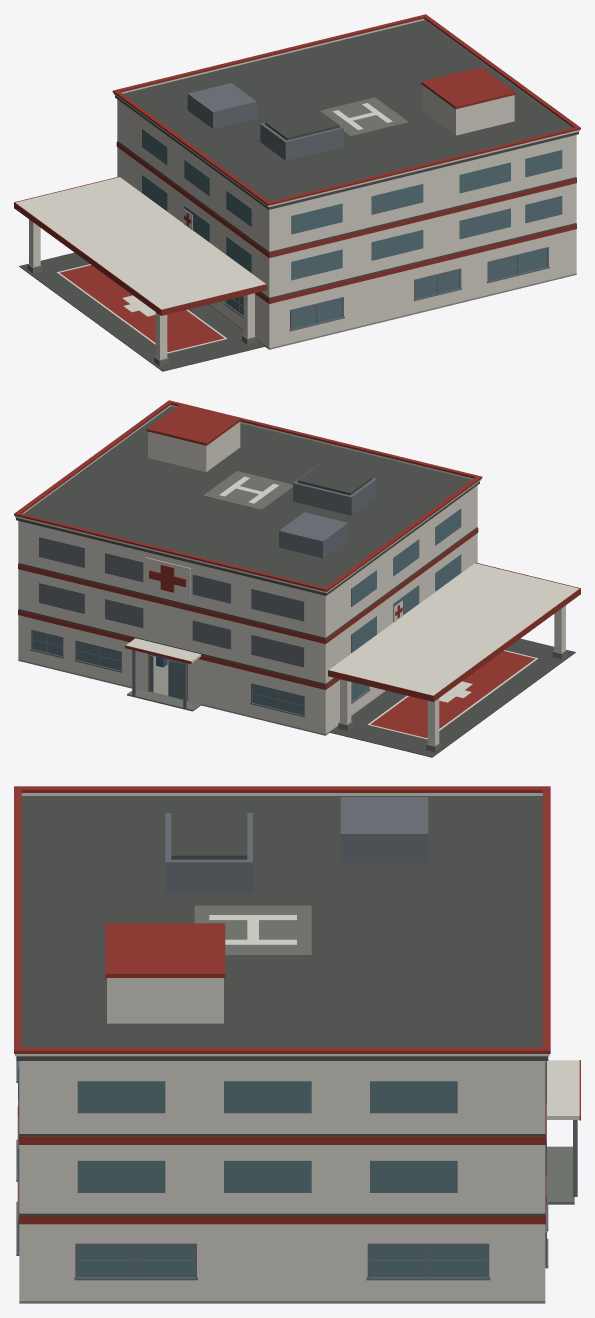
The model's file is hospital.glb.
3 views of the same model, one above another, from view 1: azimuth 30°, elevation 25°; view 2: azimuth 150°, elevation 25°; view 3: azimuth 270°, elevation 25° (orthographic). The views are drawn at different scales.
Parts seen in each view (by area): view 1: hospital; view 2: hospital; view 3: hospital.
Part boxes in pixels (bbox=[...]): hospital: bbox=[14, 14, 580, 371]; hospital: bbox=[14, 400, 580, 757]; hospital: bbox=[14, 786, 580, 1303].
Size of what is drawn, in the model's own units: 28.42 by 11.3 by 19.4.
Materials: 2 (2 with a texture image).
